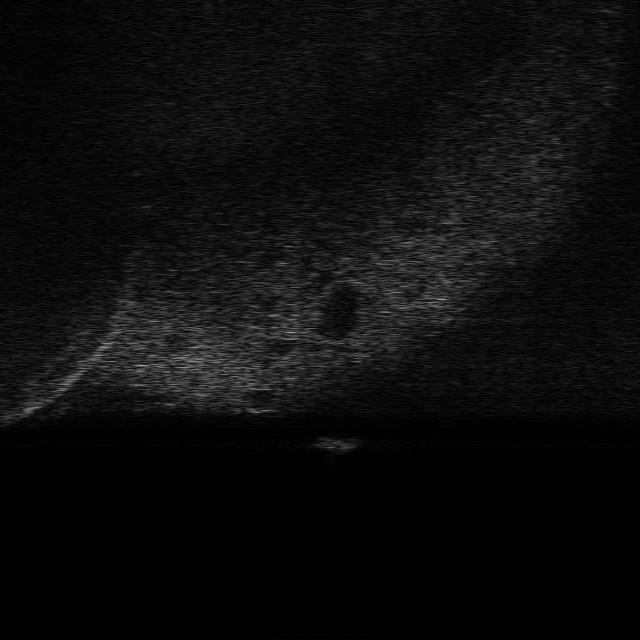cube: (314, 435, 360, 453)
